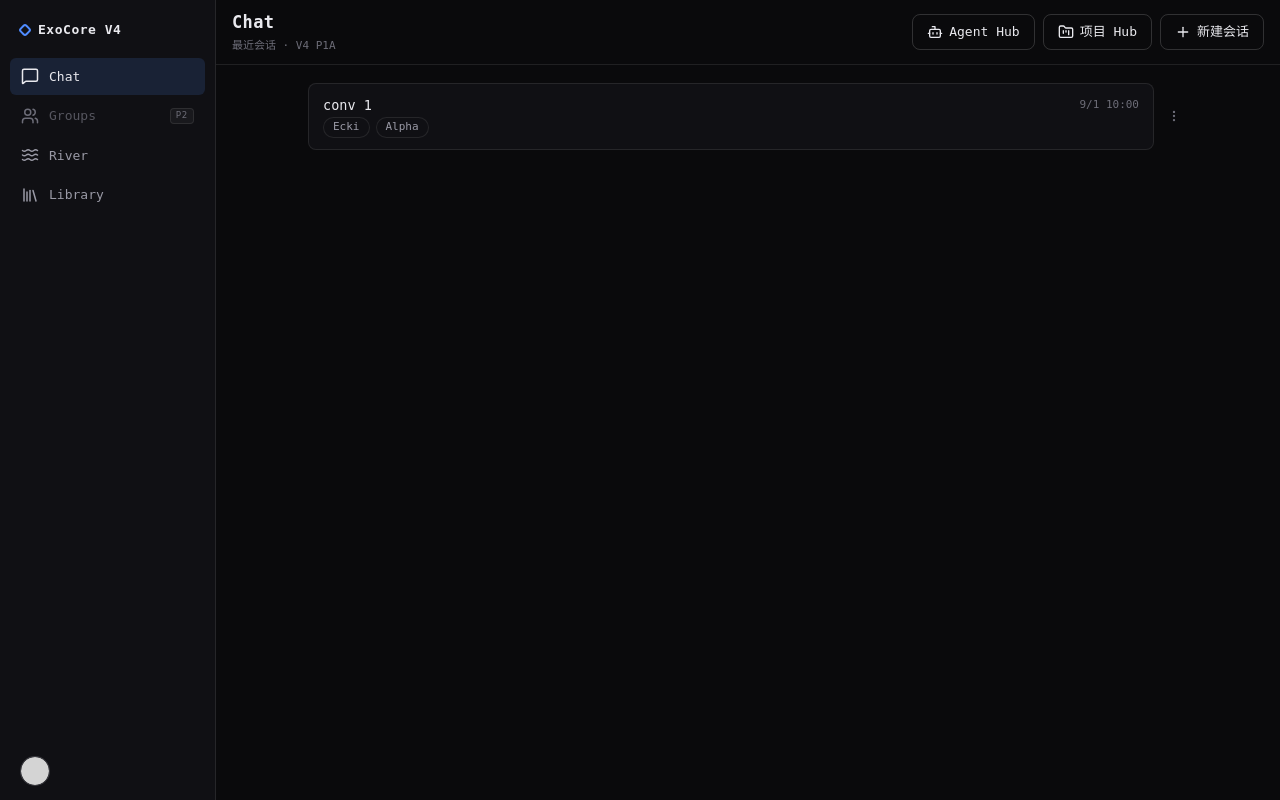
Test case: conversation strict-parent back link (#72 U2) › returns to Chat Home when entered from Chat Home
Click the link "conv 1 9/1 10:00 Ecki Alpha": (347, 105) [308,83,1154,150]
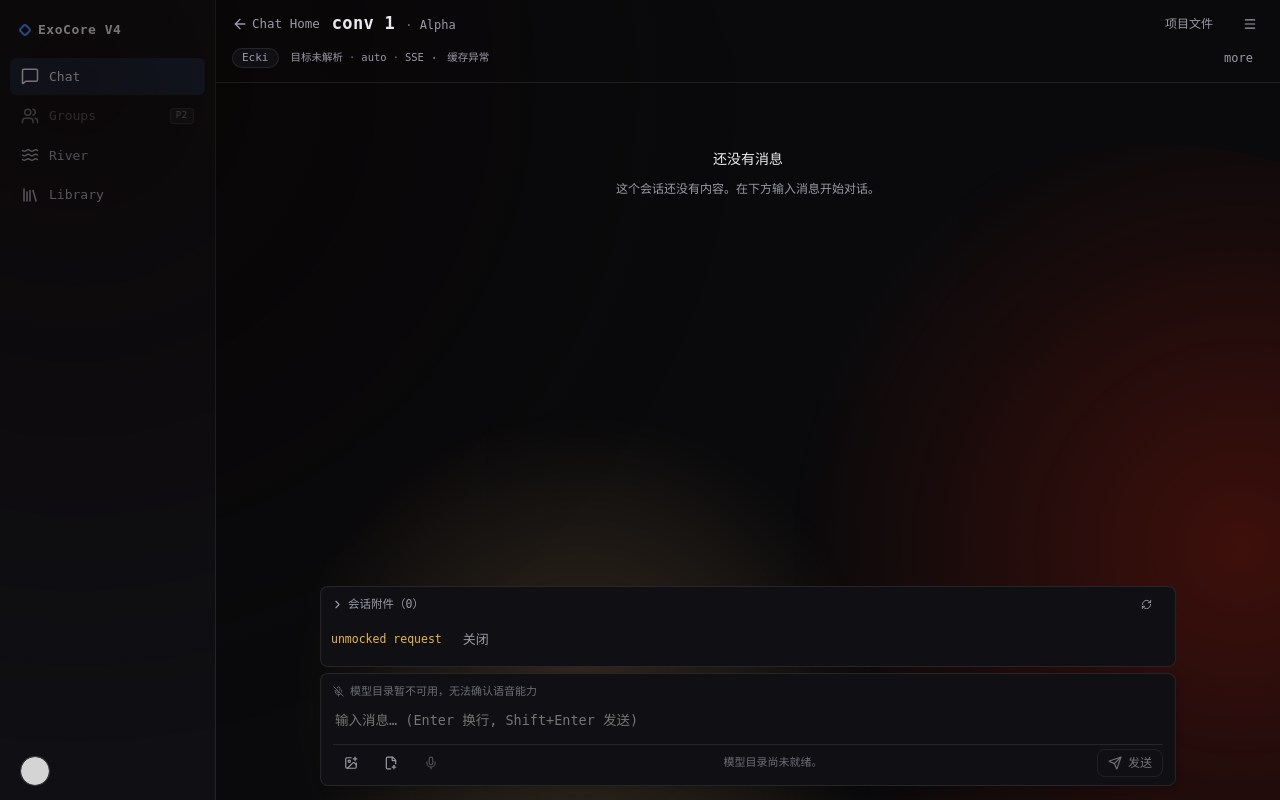
Check: the heading "conv 1" is shown, box [332,11,395,37]
